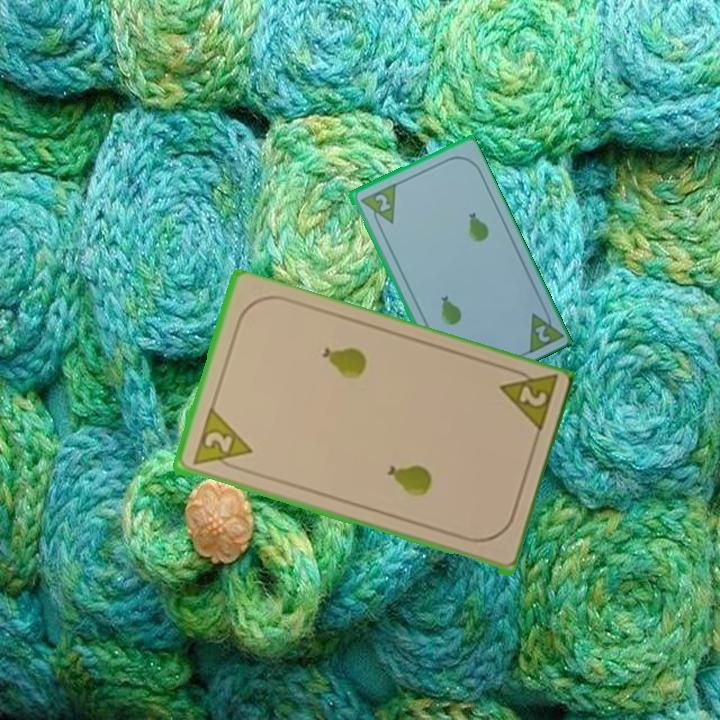2p: (495, 363, 560, 438), (188, 407, 254, 473), (522, 302, 564, 356), (356, 180, 399, 231)
